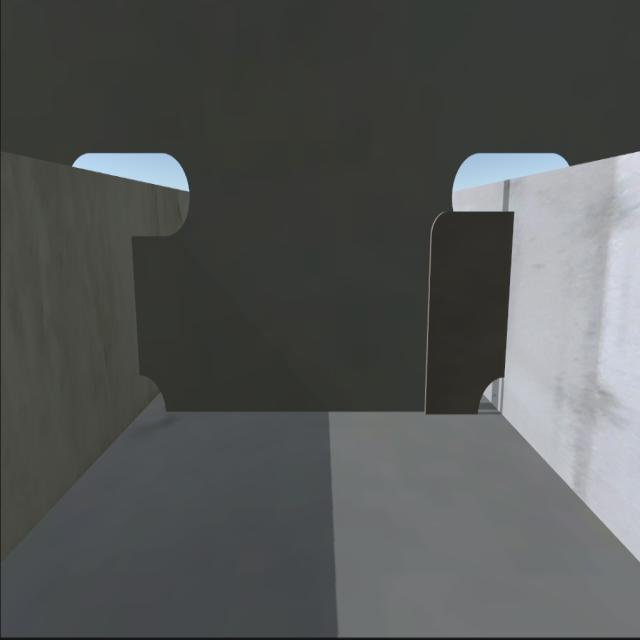fillet_hole: (134, 367, 171, 422), (474, 369, 509, 418)
fillet_yong_jeop_jang: (160, 399, 480, 417)
longi_yong_jeop_jang: (122, 234, 144, 378), (500, 210, 514, 378)
plate_CP05: (430, 208, 512, 414)
